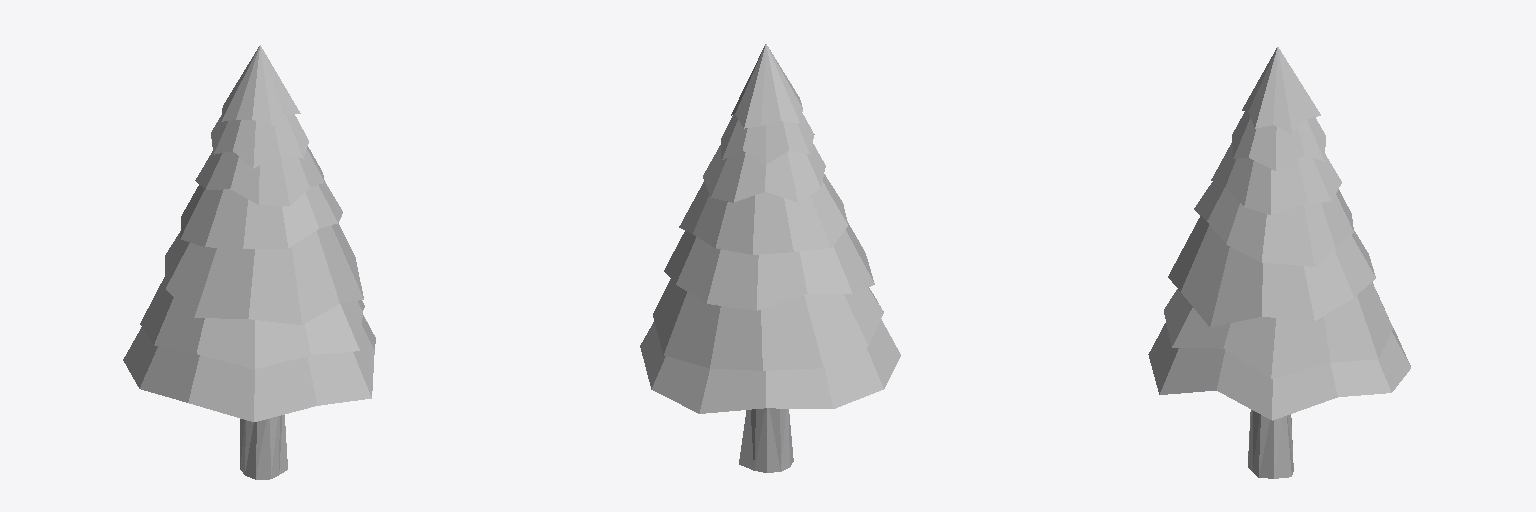
Rendered from pine_tree.obj.
The picture shows the model from 3 angles: view 1: azimuth 30°, elevation 25°; view 2: azimuth 150°, elevation 25°; view 3: azimuth 270°, elevation 25°; orthographic projection.
Visible parts, largest first — view 1: model.004; view 2: model.004; view 3: model.004.
Boxes of the visible parts, <box> form: model.004: <box>123,45,375,479</box>; model.004: <box>640,44,900,472</box>; model.004: <box>1148,47,1410,478</box>.
Bounding box in the file's own units: 1.49 × 2.59 × 1.46.